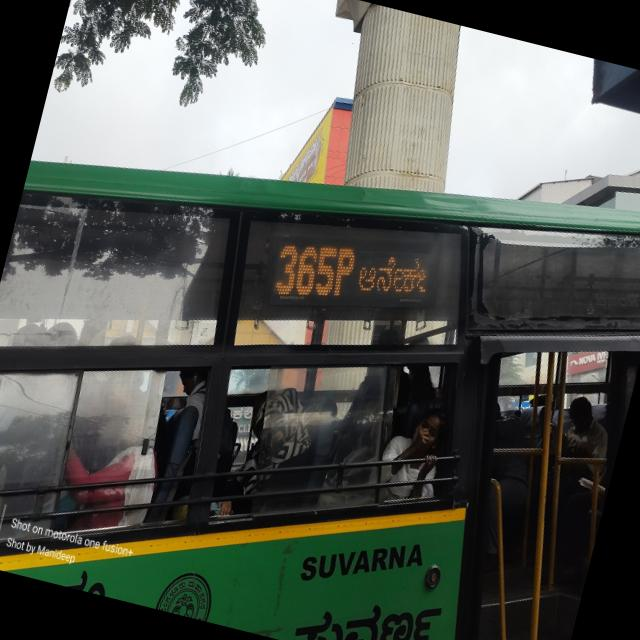bus: (0, 48, 640, 640)
display: (240, 208, 462, 342)
dnumber: (262, 230, 363, 316)
